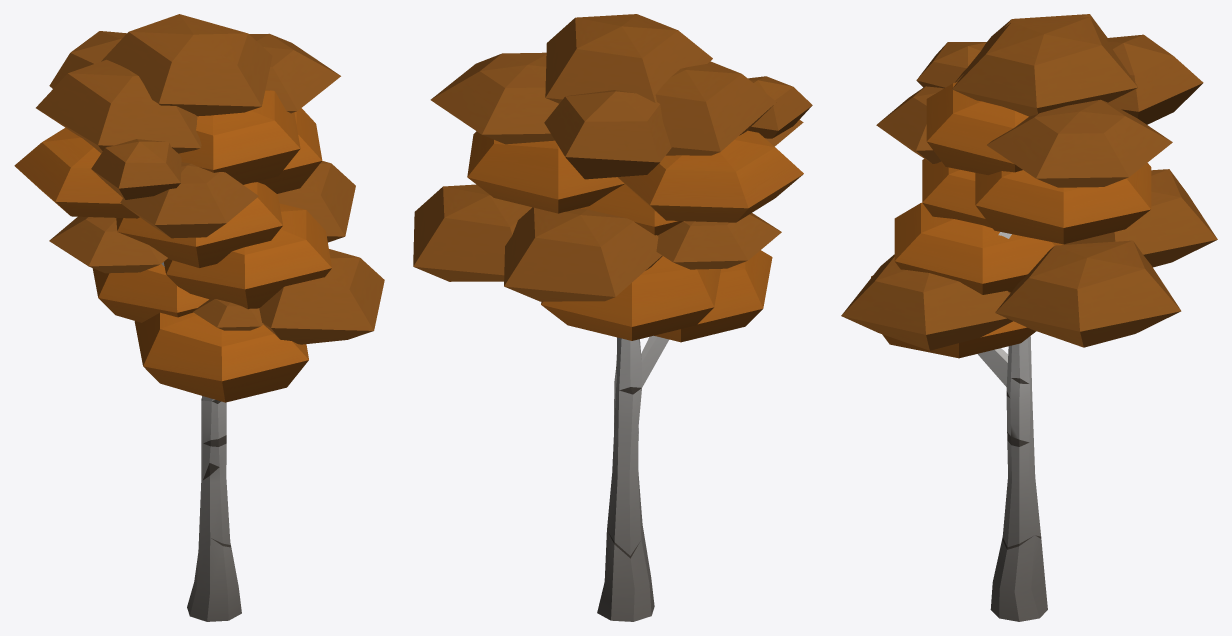
File: arbol12.fbx
3 renders of one model, left to right at view 1: azimuth 30°, elevation 25°; view 2: azimuth 150°, elevation 25°; view 3: azimuth 270°, elevation 25°, orthographic. The views are drawn at different scales.
Visible parts, largest first — view 1: arbol12; view 2: arbol12; view 3: arbol12.
Part boxes in pixels (x1=…): arbol12: x1=14, y1=14, x2=384, y2=621; arbol12: x1=413, y1=14, x2=812, y2=621; arbol12: x1=841, y1=14, x2=1217, y2=621.
Size of the model in its own units: 1492 by 2409 by 1440.
